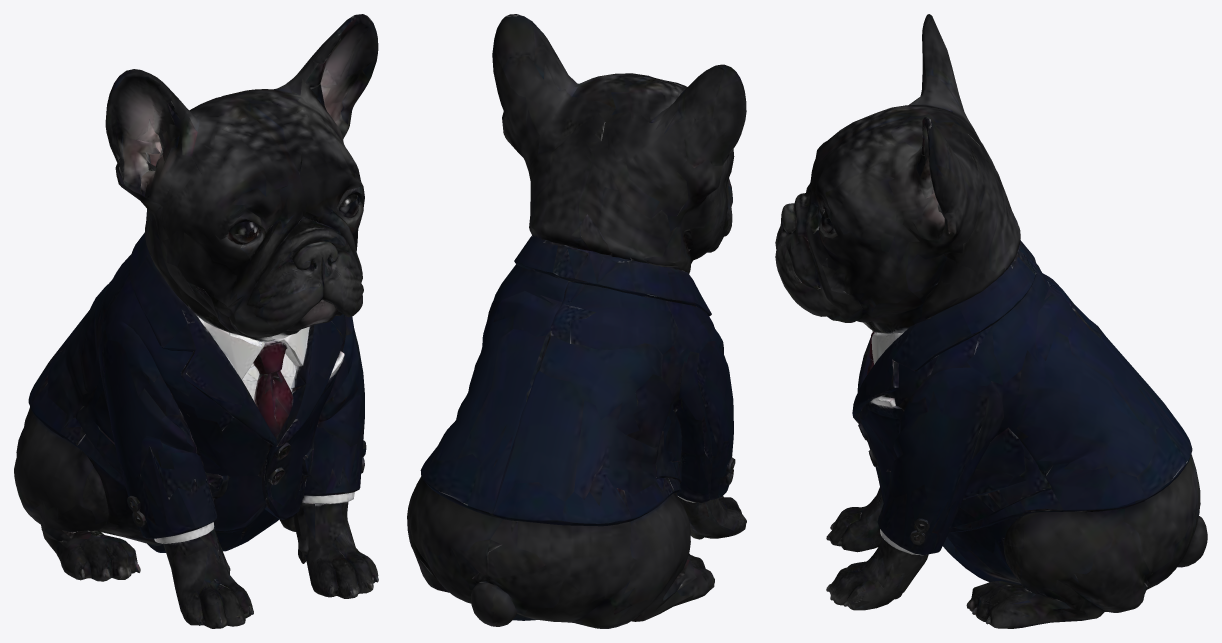
The model's file is villager_3_lite.glb.
3 views of the same model, side by side, from view 1: azimuth 30°, elevation 25°; view 2: azimuth 150°, elevation 25°; view 3: azimuth 270°, elevation 25° (orthographic). The views are drawn at different scales.
Parts seen in each view (by area): view 1: Mesh_0; view 2: Mesh_0; view 3: Mesh_0.
Boxes of the visible parts, x1=… form: Mesh_0: x1=14, y1=14, x2=378, y2=628; Mesh_0: x1=407, y1=14, x2=746, y2=628; Mesh_0: x1=775, y1=14, x2=1207, y2=628.
Bounding box in the file's own units: 1.02 × 1.9 × 1.49.
1 material, 1 textured.
